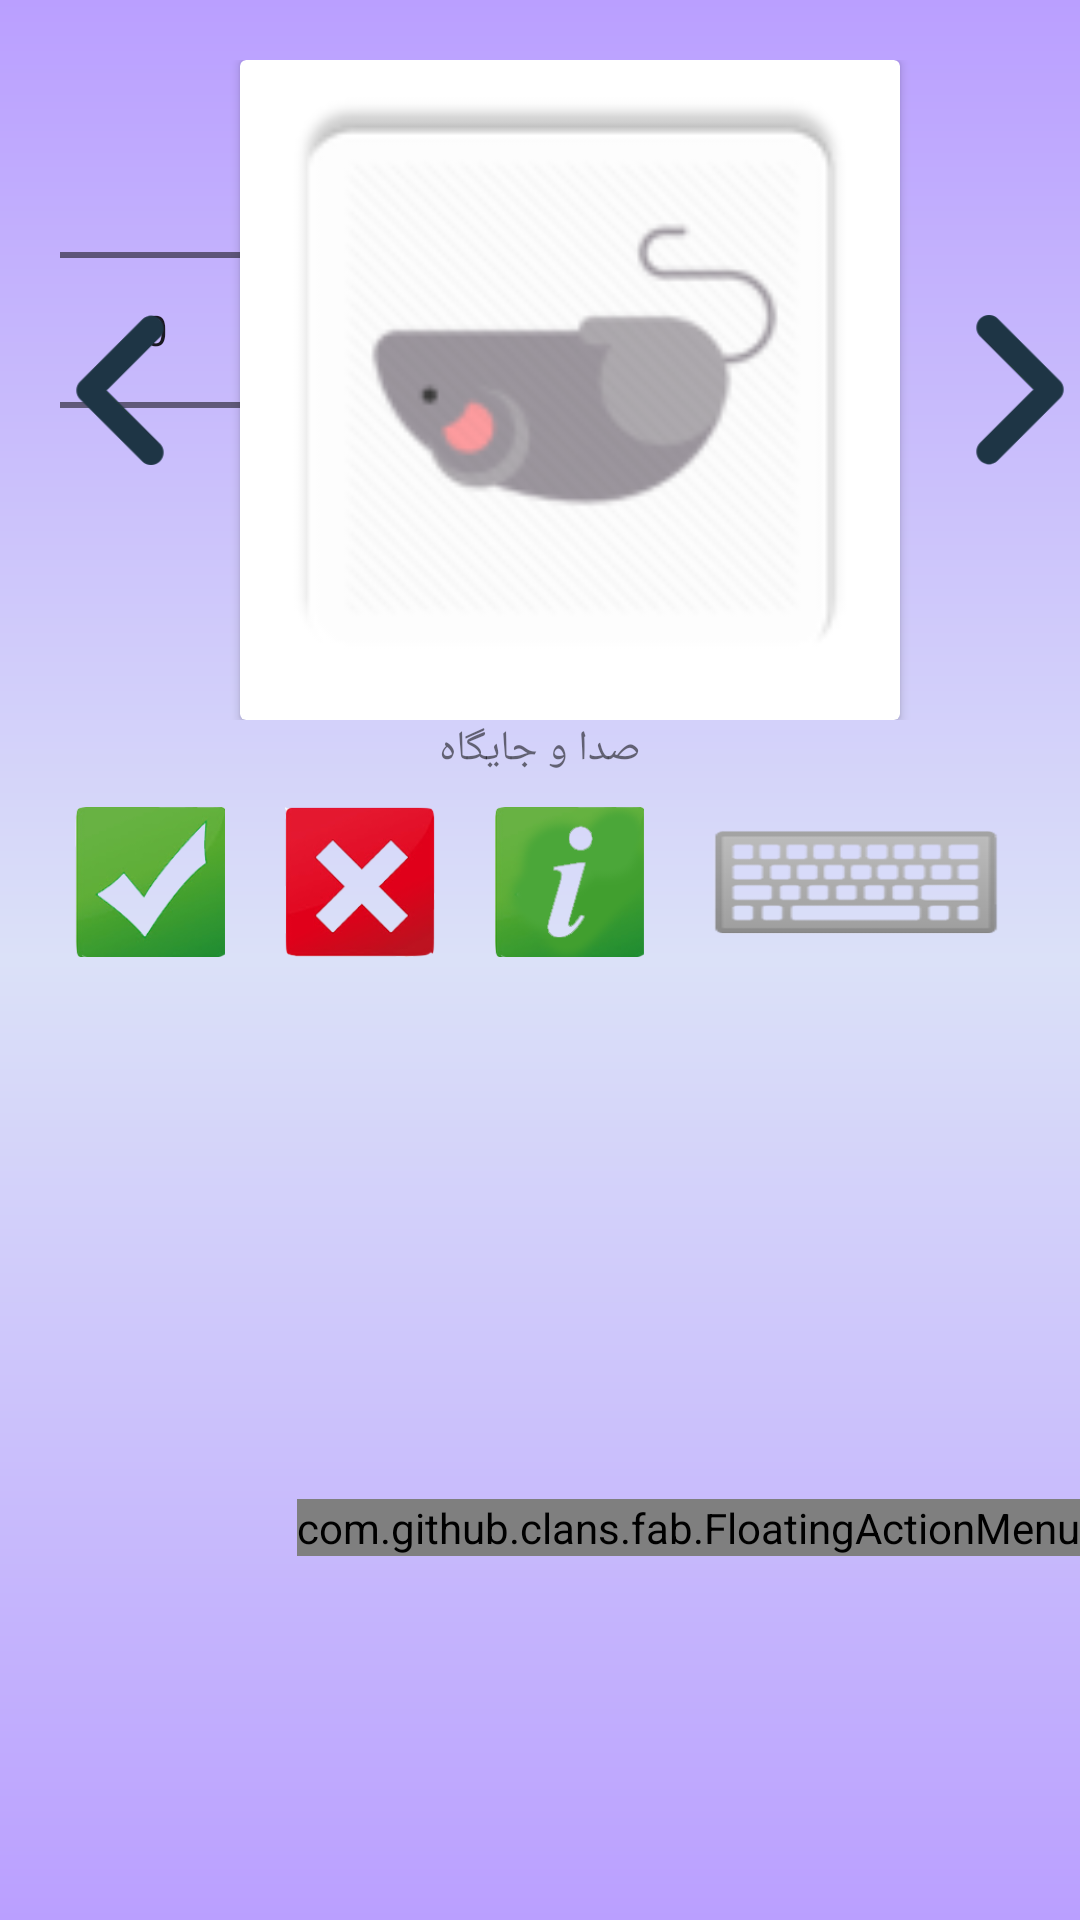

Locate icon controls on the screen. Image size 1080px×1920px, boxes as bbox(x1, y1, x2, y2).
false: bbox(285, 807, 435, 957)
info: bbox(495, 807, 644, 957)
keyboard: bbox(715, 831, 997, 933)
next: bbox(976, 315, 1064, 465)
prev: bbox(60, 315, 195, 465)
true: bbox(76, 807, 225, 957)
